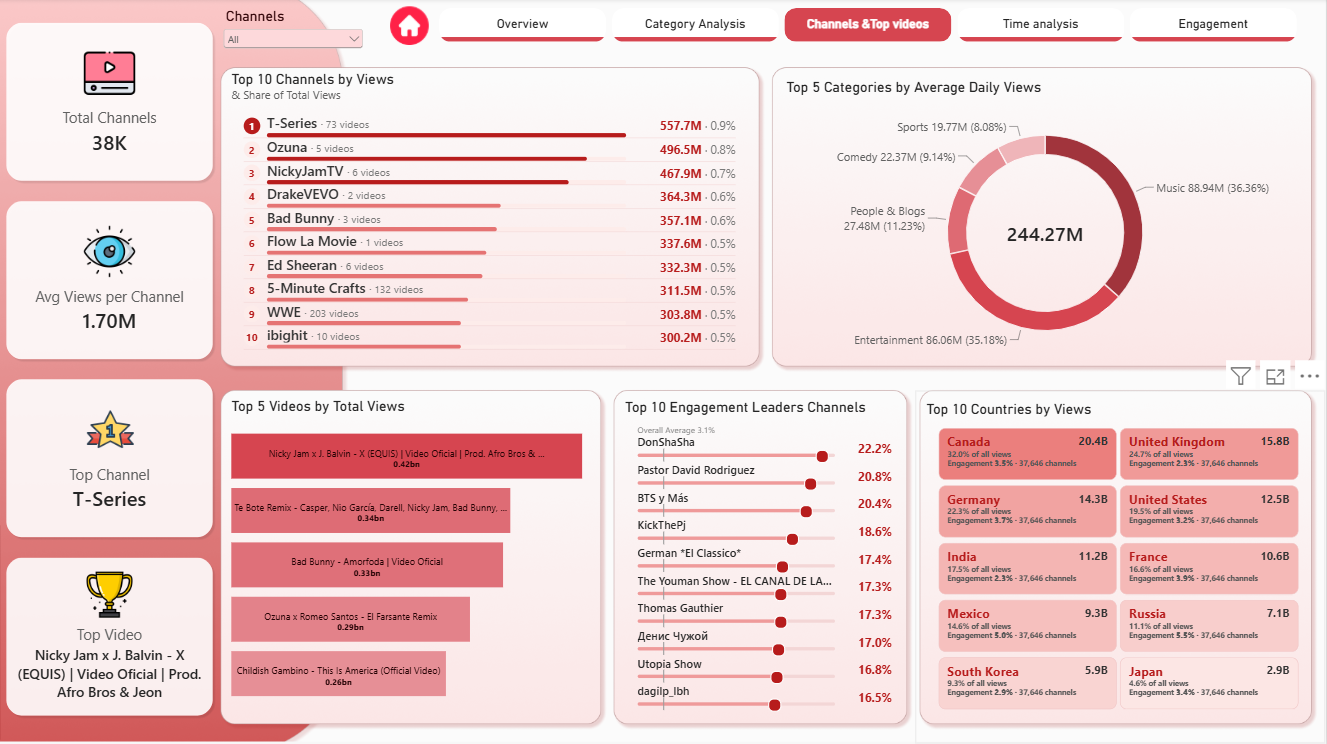

What the dashboard file says about the page in this screenshot:
{"tool":"powerbi","page":{"name":"Channels &Top videos","canvas":[1920,1080],"ordinal":3},"visuals":[{"type":"actionButton","box":[557.7,7.4,73.6,66.3],"z":1000},{"type":"htmlContent443BE3AD55E043BF878BED274D3A6865","title":"Top 10 Engagement Leaders Channels","fields":{"content":["DAX.Ch Leaders HTML"]},"box":[891.1,566.5,435.9,512.7],"z":2000},{"type":"htmlContent443BE3AD55E043BF878BED274D3A6865","title":"Top 10 Countries by Views","fields":{"content":["DAX.Country Tiles HTML"]},"box":[1327,568.4,593.4,510.8],"z":3000},{"type":"donutChart","title":"Top 5 Categories by Average Daily Views","fields":{"Category":["Dim_Category.category_name"],"Y":["Measures (2).Avg Daily Views"]},"box":[1123.4,103.7,781.6,435.9],"z":4000},{"type":"slicer","fields":{"Values":["Fact_Youtube_Trending.channel_title"]},"box":[320.2,14.7,211.7,71.8],"z":5000},{"type":"htmlContent443BE3AD55E043BF878BED274D3A6865","title":"Top 10 Channels by Views","fields":{"content":["DAX.Top Channels HTML"]},"box":[320.7,90.3,779.7,449.4],"z":6000},{"type":"barChart","title":"Top 5 Videos by Total Views","fields":{"Category":["Fact_Youtube_Trending.video_title"],"Y":["Measures (2).Total Views"]},"box":[320.7,564.6,570.4,483.9],"z":7000},{"type":"cardVisual","fields":{"Data":["Measures (2).Total Channels","Measures (2).Avg Views per Channel","Measures (2).Ch Top Channel","Measures (2).Top Video"]},"box":[0,25.8,320.2,1025.2],"z":8000},{"type":"pageNavigator","box":[636.8,14.7,1246,49.7],"z":8001}]}

Visuals, with their boxes in screenshot pixels (x1, y1, x2, y2), scaled from the page's 1920x1080 canvas onto the 1327x744 screenshot:
actionButton: (385, 5, 436, 51)
"Top 10 Engagement Leaders Channels" htmlContent443BE3AD55E043BF878BED274D3A6865: (616, 390, 917, 743)
"Top 10 Countries by Views" htmlContent443BE3AD55E043BF878BED274D3A6865: (917, 392, 1326, 743)
"Top 5 Categories by Average Daily Views" donutChart: (776, 71, 1317, 372)
slicer - Fact_Youtube_Trending.channel_title: (221, 10, 368, 60)
"Top 10 Channels by Views" htmlContent443BE3AD55E043BF878BED274D3A6865: (222, 62, 761, 372)
"Top 5 Videos by Total Views" barChart: (222, 389, 616, 722)
cardVisual - Measures (2).Total Channels x Measures (2).Avg Views per Channel: (0, 18, 221, 724)
pageNavigator: (440, 10, 1301, 44)
